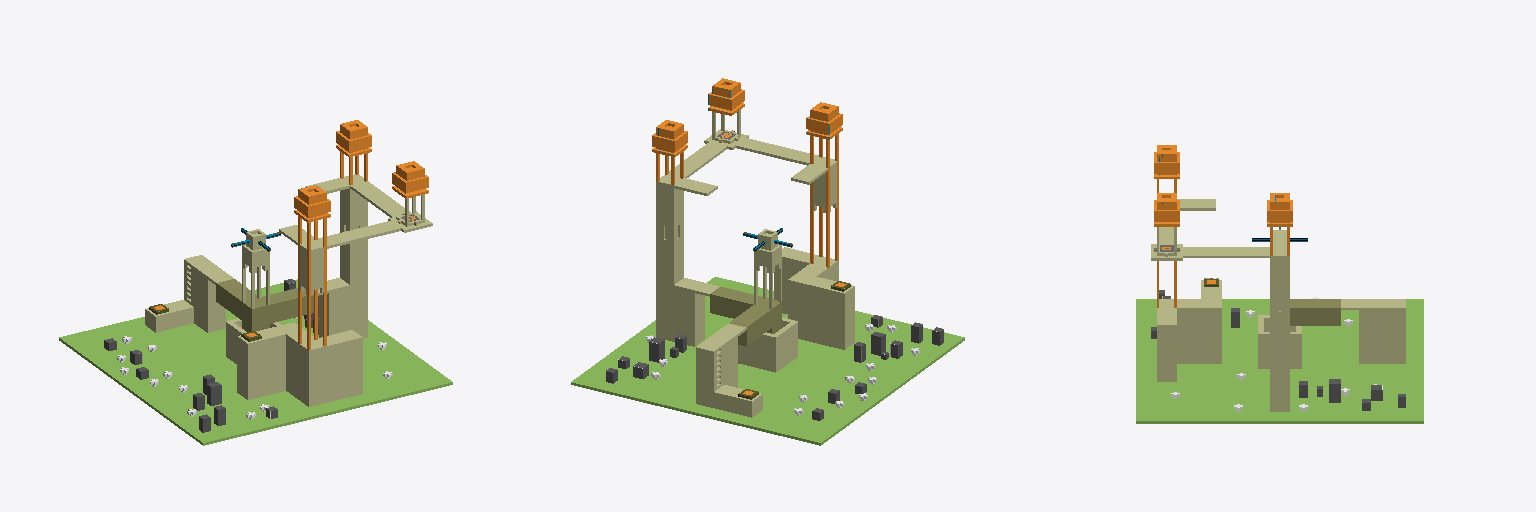
3 renders of one model, left to right at view 1: azimuth 30°, elevation 25°; view 2: azimuth 150°, elevation 25°; view 3: azimuth 270°, elevation 25°, orthographic.
Visible parts, largest first — view 1: untitled-2; view 2: untitled-2; view 3: untitled-2.
Part boxes in pixels (bbox=[...]): untitled-2: bbox=[59, 120, 452, 445]; untitled-2: bbox=[571, 78, 964, 445]; untitled-2: bbox=[1136, 145, 1423, 423].
Size of the model in its own units: 97 by 79 by 97.
1 materials, 1 textured.